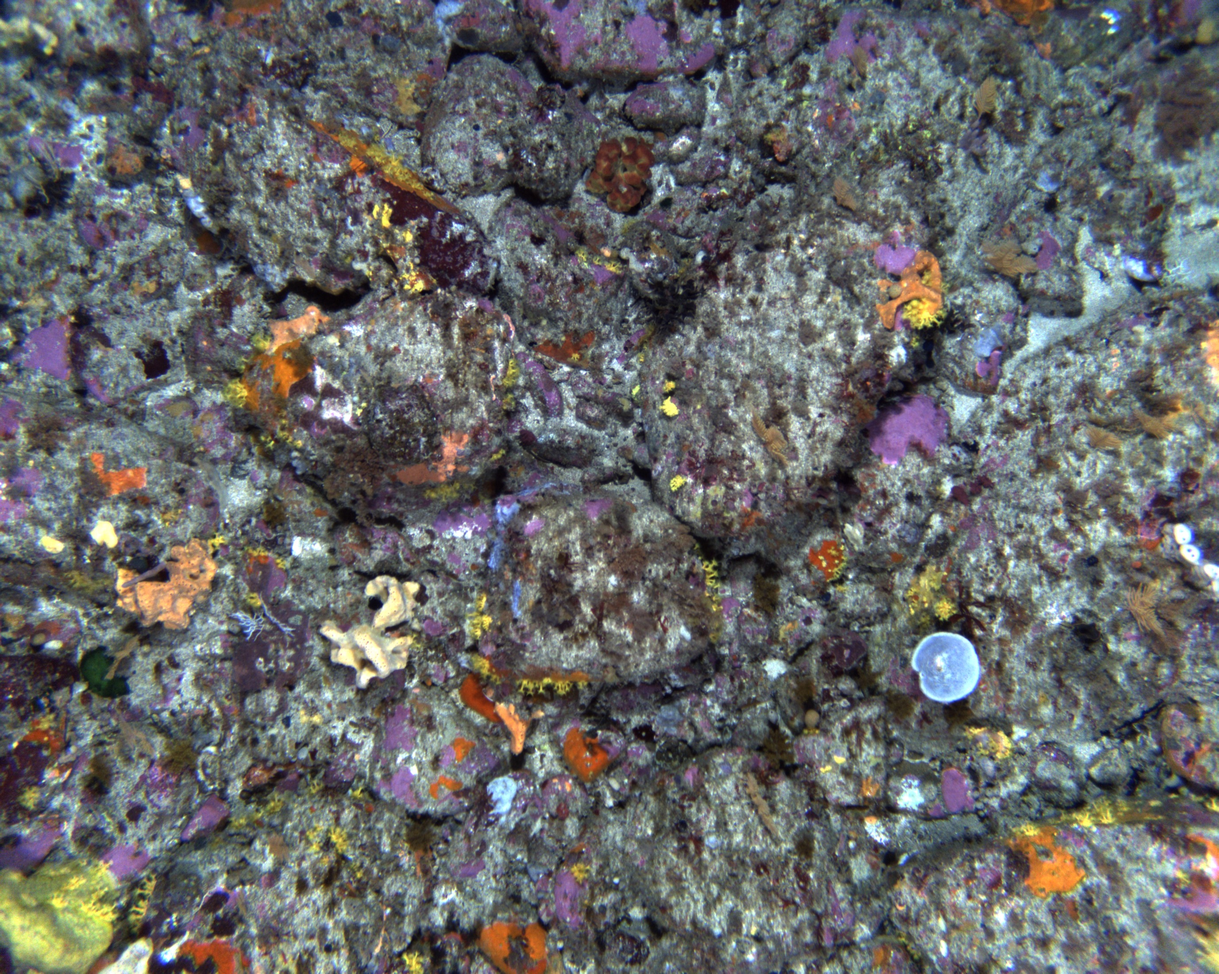Brachionichthyidae: (241, 761, 330, 794)
